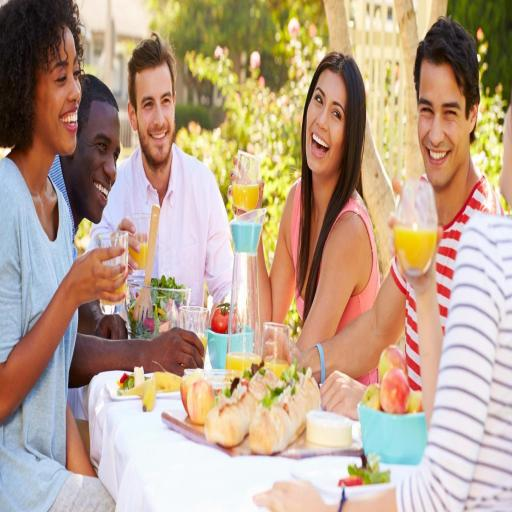person: (255, 214, 511, 511), (0, 0, 127, 511), (91, 33, 233, 305), (258, 53, 380, 352), (414, 18, 503, 327), (68, 302, 203, 418), (500, 96, 511, 204)
